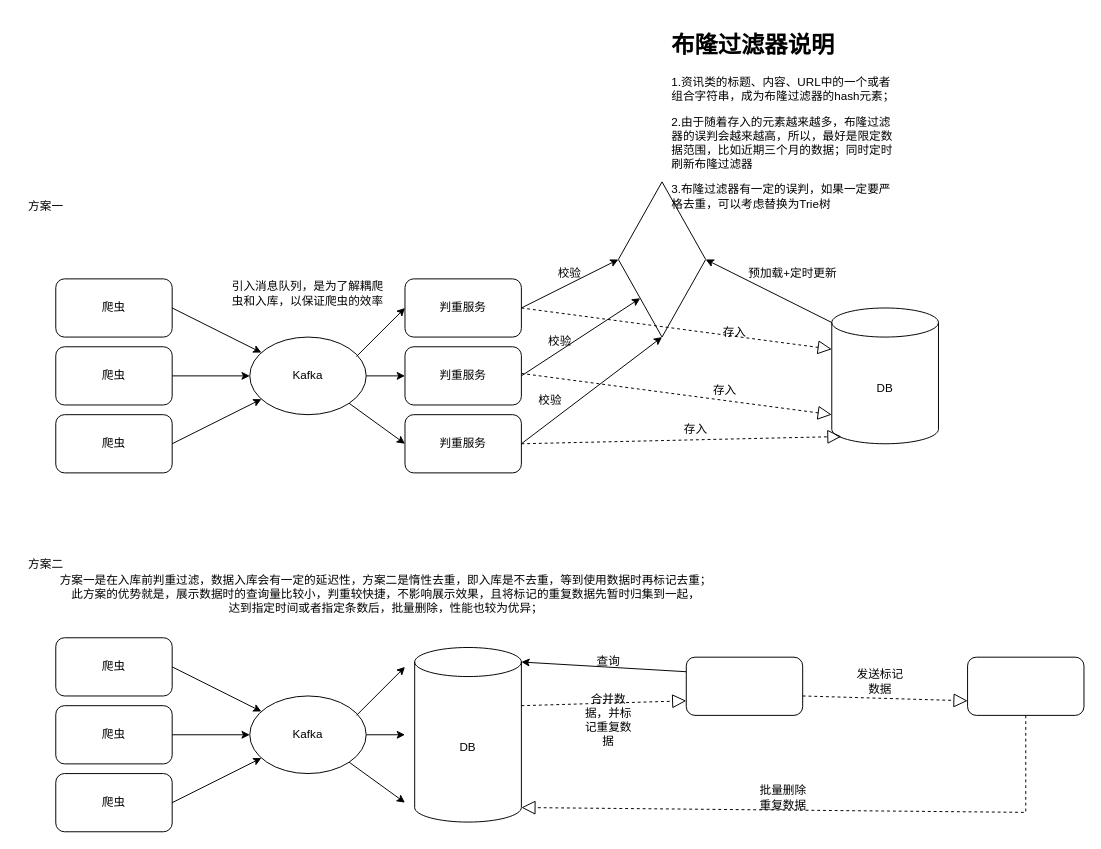
Some shapes in this 1101 by 849 pixel diagram are drawn without their labels. The shapes that lost their labels are listed below. From the top down, each one's centre as x and y in pixels, then its label:
At pixel 661 259: "布隆过滤器".
At pixel 744 685: "展示服务".
At pixel 1025 685: "去重服务".
